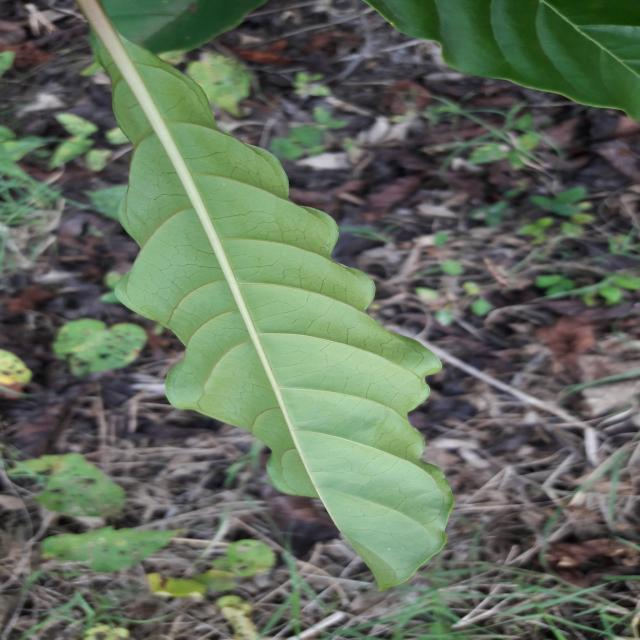Sanas: (73, 0, 453, 592)
